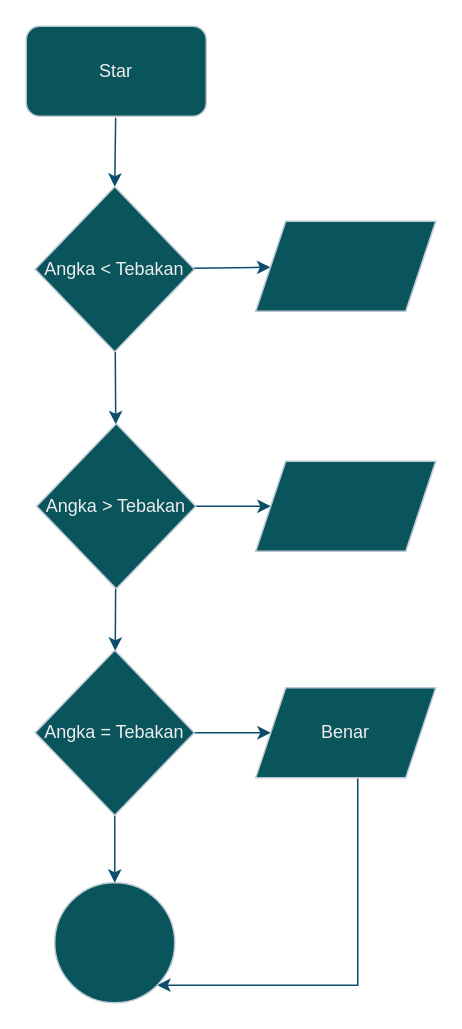
This 462x1029 diagram has some shape labels left out. The shapes that lost their labels are listed below. From the top down, each one's box as (x1, y1, x2, y2) in pixels, then its label:
(254, 220, 436, 311): Angka lebih kecil
(254, 460, 436, 551): Angka lebih besar
(53, 881, 175, 1003): End
